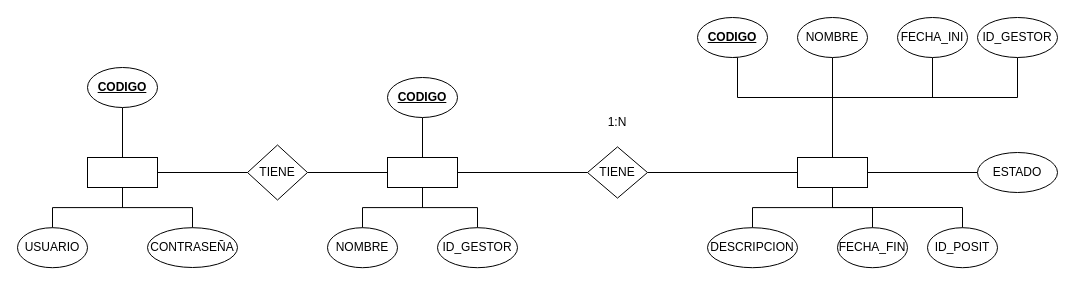
This 1075x286 diagram has some shape labels left out. Here are the shapes that lost their labels. From the top down, the box of each, then its label:
(86, 156, 158, 188): GESTOR
(386, 156, 458, 188): POSIT
(796, 156, 868, 188): TAREA
